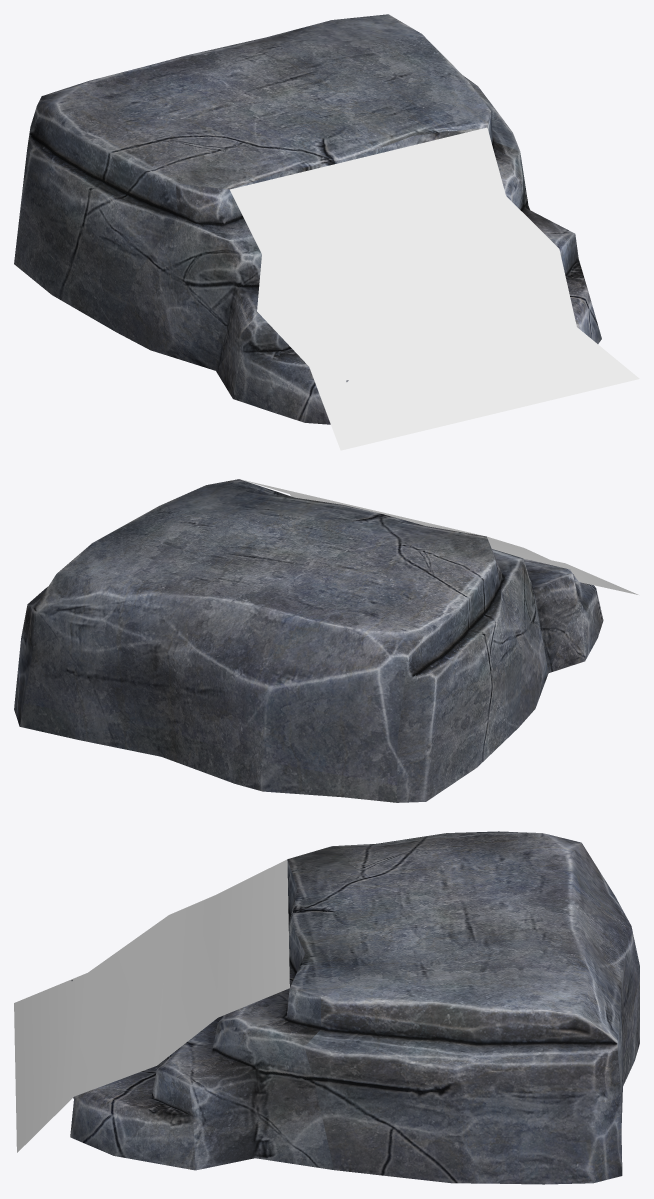
Rendered from R_Stairs.FBX.
3 views of the same model, one above another, from view 1: azimuth 30°, elevation 25°; view 2: azimuth 150°, elevation 25°; view 3: azimuth 270°, elevation 25° (orthographic). The views are drawn at different scales.
Parts seen in each view (by area): view 1: default, Plane01; view 2: default, Plane01; view 3: default, Plane01.
Part boxes in pixels (bbox=[...]): default: bbox=[14, 14, 601, 424]; Plane01: bbox=[230, 127, 639, 450]; default: bbox=[14, 479, 603, 802]; Plane01: bbox=[240, 479, 638, 594]; default: bbox=[70, 831, 639, 1184]; Plane01: bbox=[14, 859, 289, 1152].
Bounding box in the file's own units: 1.71 × 0.6332 × 2.14.
